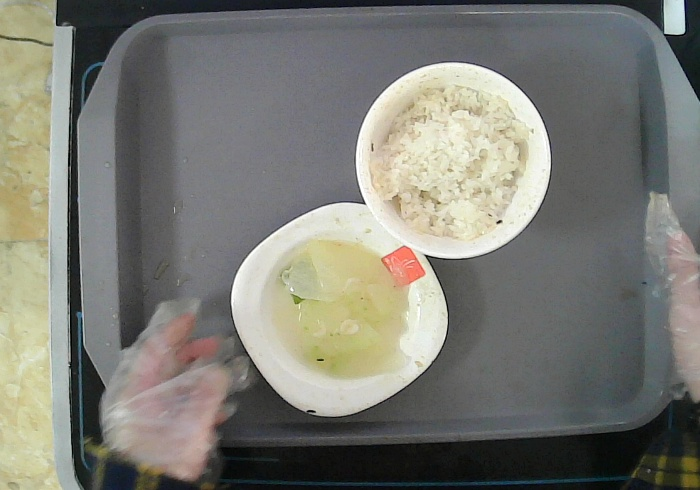SHKJ-Bai_Se_Si_Fang_Cai_Die: (229, 199, 452, 422)
SHKJ-Fan_Wan: (353, 61, 553, 261)
